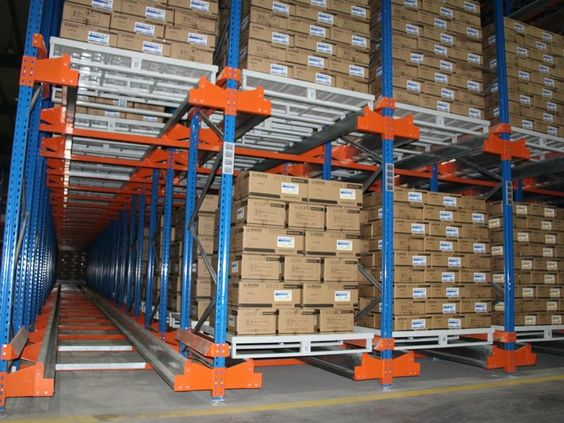box: (235, 161, 363, 329), (253, 7, 369, 73), (251, 171, 311, 198), (306, 232, 364, 259), (399, 298, 456, 316), (253, 200, 290, 225), (396, 250, 434, 274), (241, 255, 281, 277), (522, 253, 564, 272), (522, 302, 550, 320), (394, 317, 433, 329), (428, 207, 456, 223), (462, 225, 492, 239), (433, 271, 458, 286), (464, 316, 494, 327)
